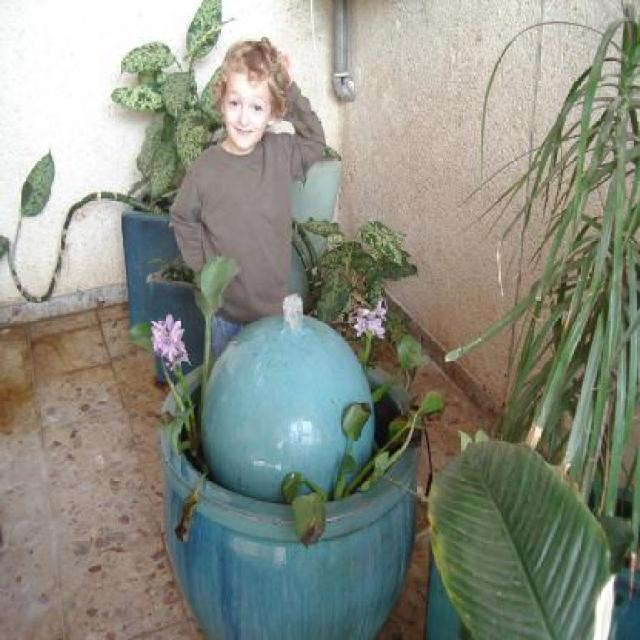obstacle: (159, 42, 333, 358)
